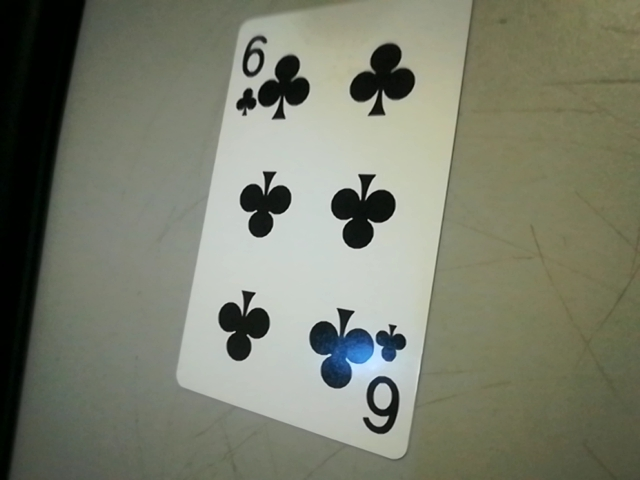mh 6: (360, 323, 413, 448)
